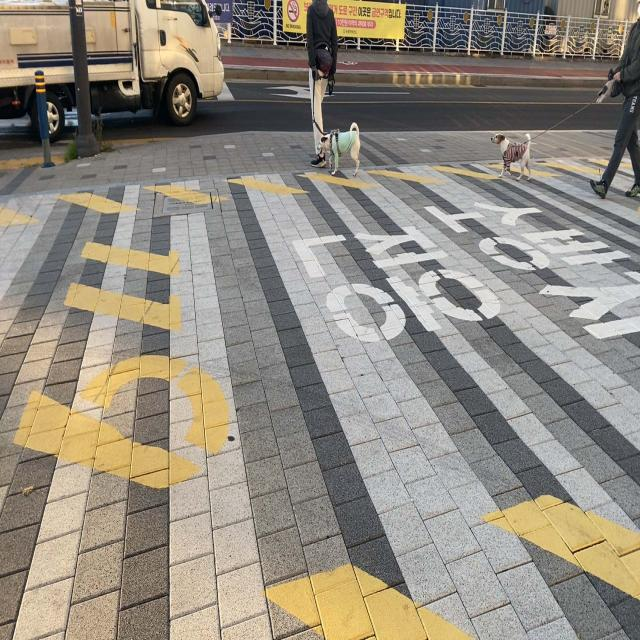Leashed_Dog: (491, 70, 630, 182), (312, 69, 361, 176)
